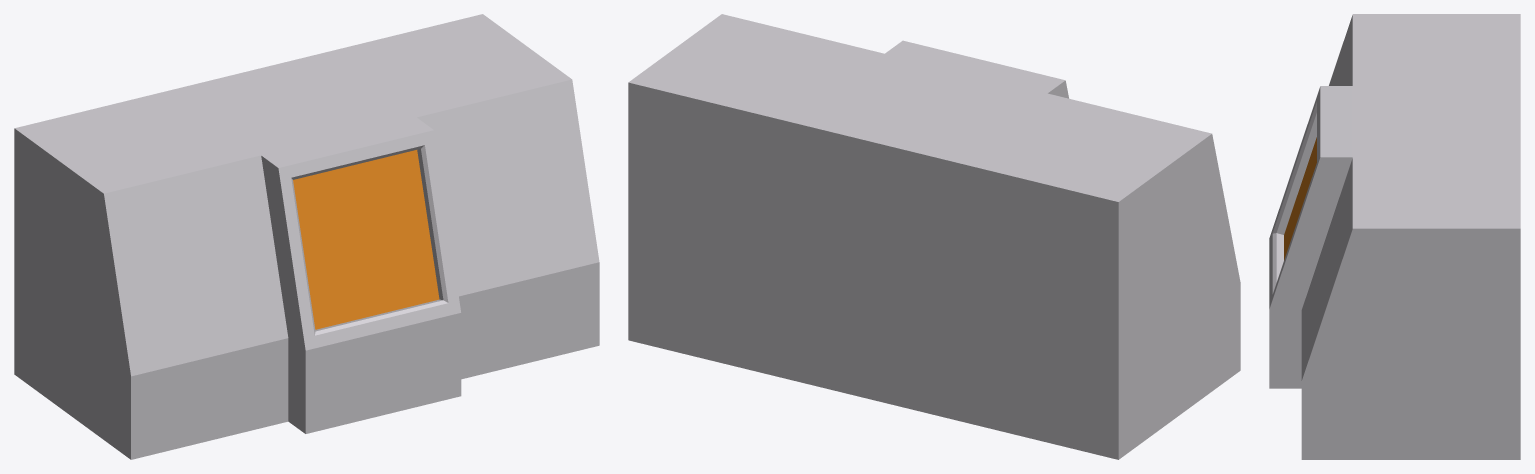
Rendered from shebei3.glb.
The picture shows the model from 3 angles, left to right: view 1: azimuth 30°, elevation 25°; view 2: azimuth 150°, elevation 25°; view 3: azimuth 270°, elevation 25°; orthographic projection. The views are drawn at different scales.
Visible parts, largest first — view 1: shebei3; view 2: shebei3; view 3: shebei3.
Boxes of the visible parts, box(x1,y1,x2,y2) form: shebei3: box(14, 14, 599, 459); shebei3: box(628, 14, 1240, 459); shebei3: box(1269, 14, 1520, 459).
Bounding box in the file's own units: 17.48 × 8.78 × 8.66.
